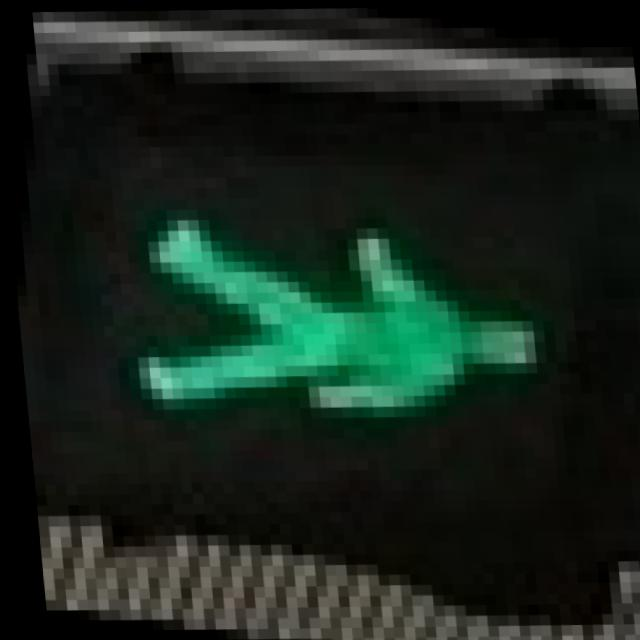green_light: (77, 183, 564, 511)
